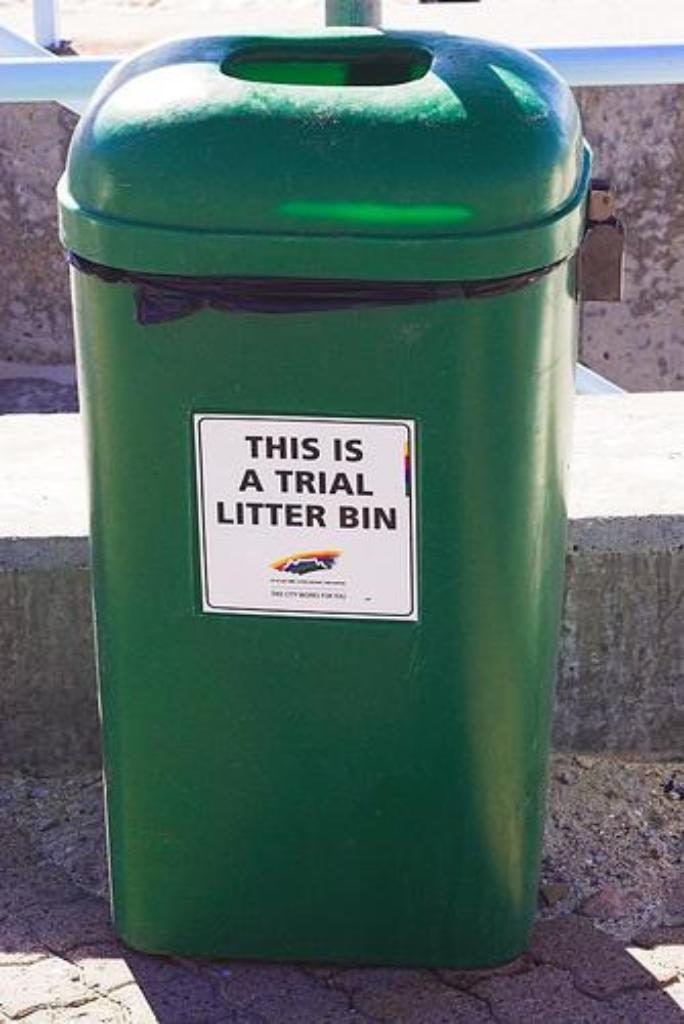dustbin: (59, 21, 587, 973)
